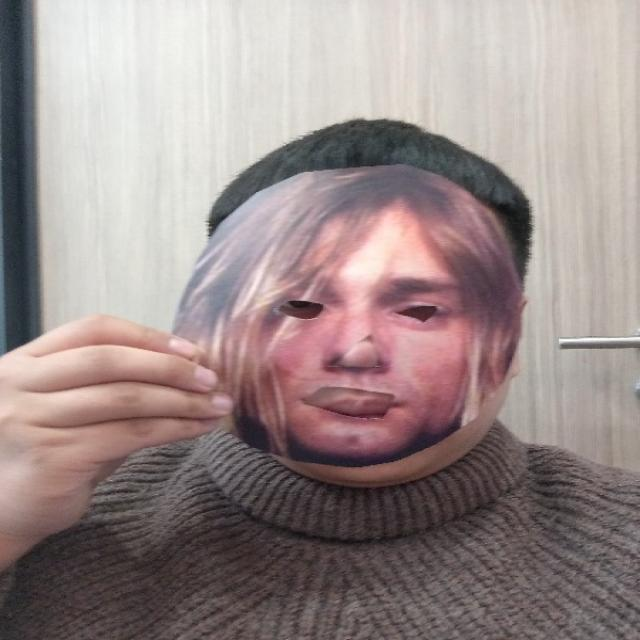mask: (163, 167, 534, 466)
